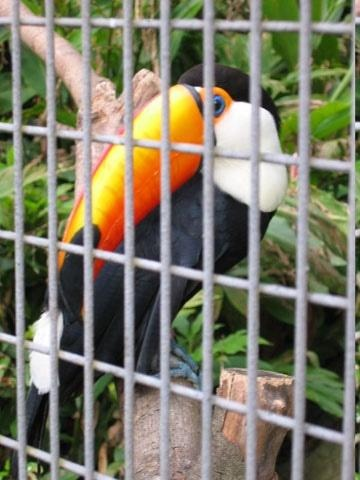bird: (10, 63, 288, 476)
